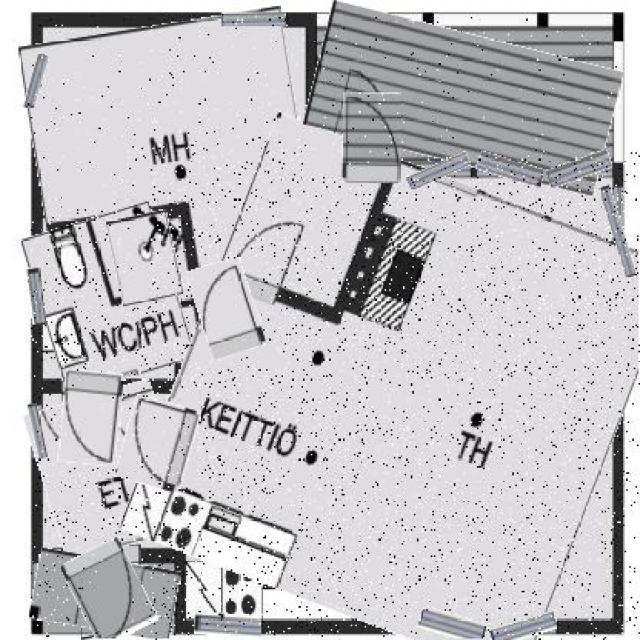door: (67, 541, 149, 640), (120, 398, 195, 489), (192, 260, 260, 358), (60, 372, 122, 465), (343, 92, 400, 183)
window: (151, 143, 640, 640), (31, 16, 317, 344), (307, 17, 618, 178), (31, 209, 186, 388), (34, 387, 183, 556), (31, 554, 178, 637), (111, 212, 178, 305), (606, 184, 629, 278), (548, 153, 612, 184), (417, 611, 485, 640), (477, 155, 543, 183), (489, 615, 557, 640), (406, 157, 471, 183), (194, 614, 260, 637), (28, 55, 44, 111), (28, 268, 44, 324), (222, 12, 286, 26), (31, 403, 46, 459)
